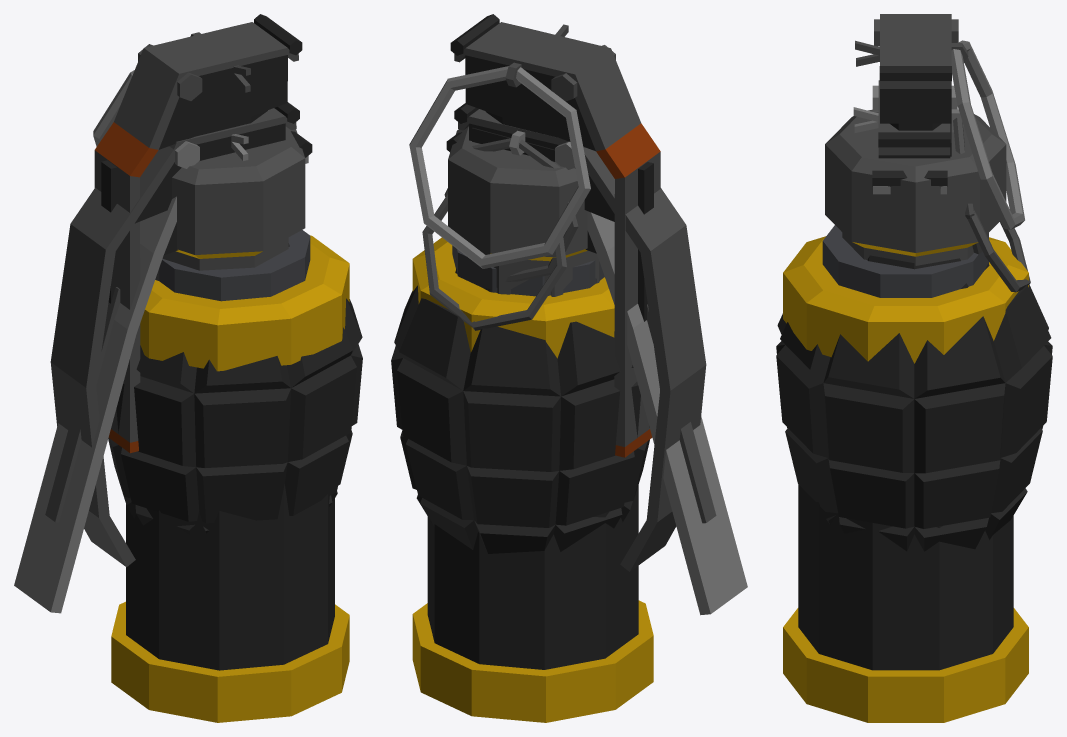
The model's file is throwables.fbx.
3 renders of one model, left to right at view 1: azimuth 30°, elevation 25°; view 2: azimuth 150°, elevation 25°; view 3: azimuth 270°, elevation 25°, orthographic.
Visible parts, largest first — view 1: Smoke_Granade, Frag_Granade, Flashbang; view 2: Frag_Granade, Smoke_Granade, Flashbang; view 3: Smoke_Granade, Frag_Granade, Flashbang.
Part boxes in pixels (box(x1,y1,x2,y2)): Smoke_Granade: box(14, 131, 349, 722); Frag_Granade: box(50, 102, 362, 567); Flashbang: box(93, 14, 305, 453); Frag_Granade: box(391, 103, 706, 571); Smoke_Granade: box(412, 132, 747, 722); Flashbang: box(409, 14, 660, 457); Smoke_Granade: box(783, 170, 1030, 722); Frag_Granade: box(776, 80, 1052, 551); Flashbang: box(825, 14, 1024, 265).
Size of the model in its own units: 24.81 by 47.68 by 18.65.
